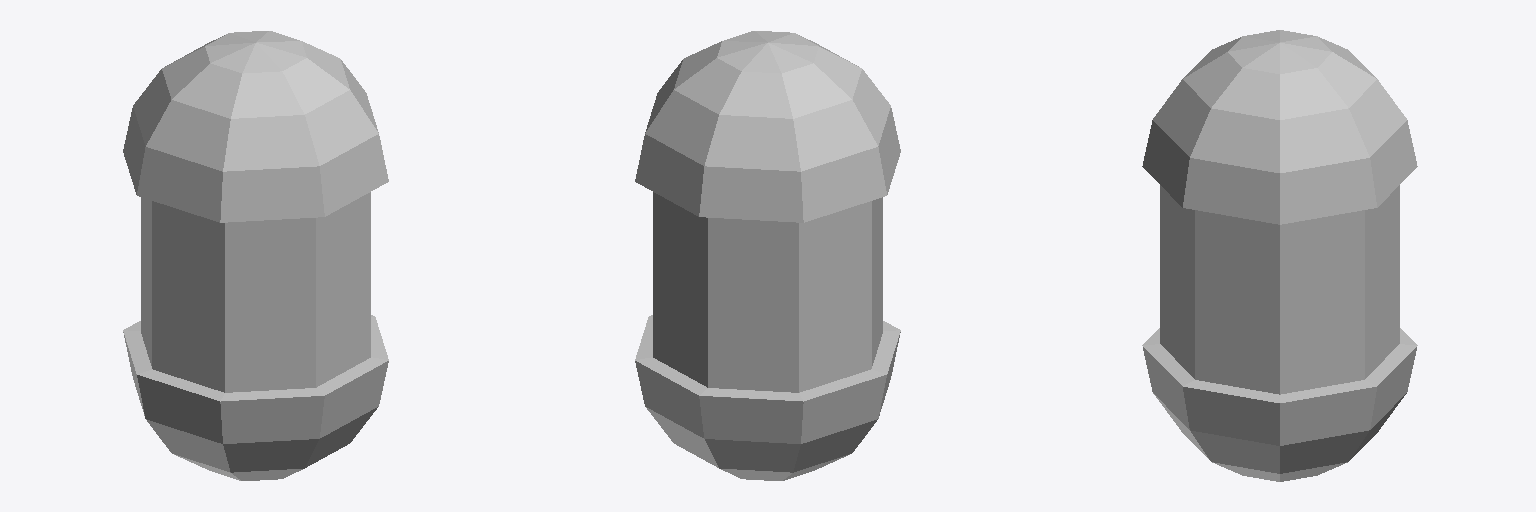
Rendered from Baliza_agua.obj.
The picture shows the model from 3 angles: view 1: azimuth 30°, elevation 25°; view 2: azimuth 150°, elevation 25°; view 3: azimuth 270°, elevation 25°; orthographic projection.
Parts seen in each view (by area): view 1: Baliza_agua.001; view 2: Baliza_agua.001; view 3: Baliza_agua.001.
Part boxes in pixels (x1,y1,x2,y2): Baliza_agua.001: (123,31,388,480); Baliza_agua.001: (635,31,900,480); Baliza_agua.001: (1142,30,1417,481).
Bounding box in the file's own units: 6.2 × 10.6 × 6.2.